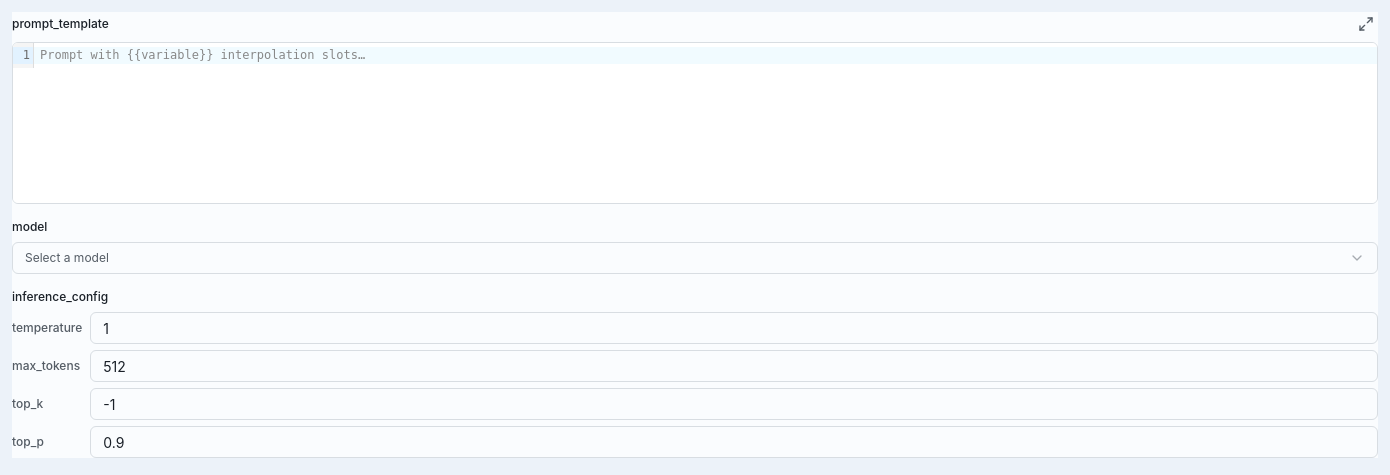
Test: PromptNodeEditor model dropdown › renders models from the hook
Click the dropdown with test id "cfg-prompt-model-select".
click(67, 258)  # box top-left (12, 242), bottom-right (1378, 274)
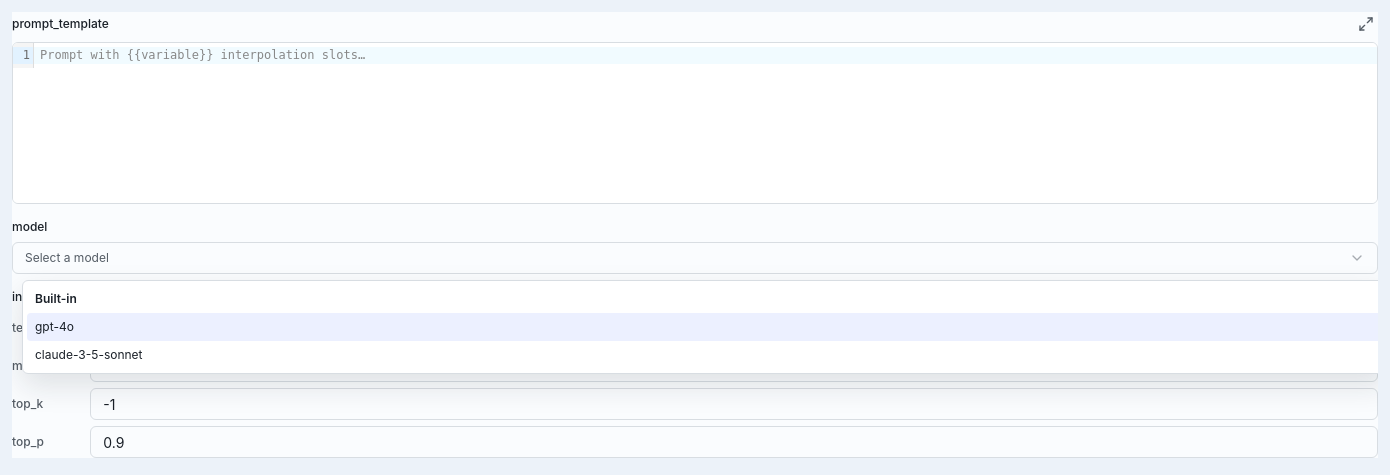
Expected: the text "gpt-4o" is shown, top-left (35, 319), bottom-right (74, 334)
Expected: the text "claude-3-5-sonnet" is shown, top-left (35, 347), bottom-right (142, 362)
